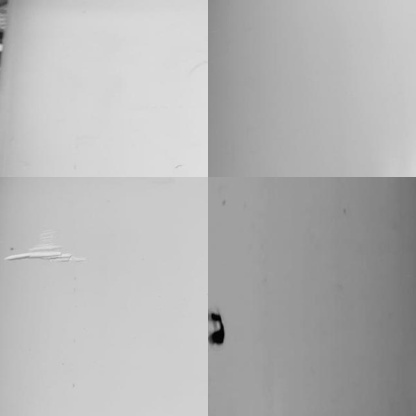kongdong: (206, 309, 228, 346)
sunshang: (5, 229, 86, 273)
